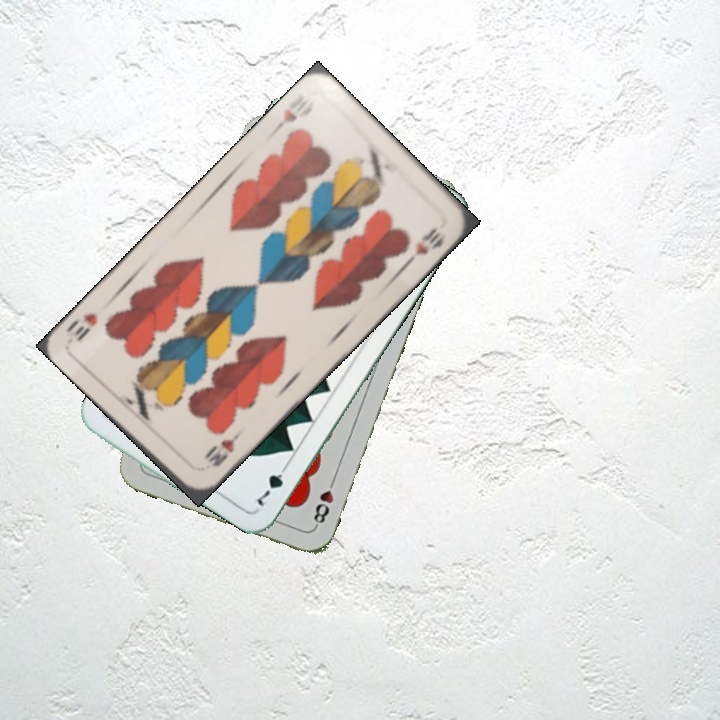G7: (253, 458, 292, 509)
H10: (268, 97, 317, 137), (199, 427, 244, 470)
H8: (309, 473, 338, 530)
